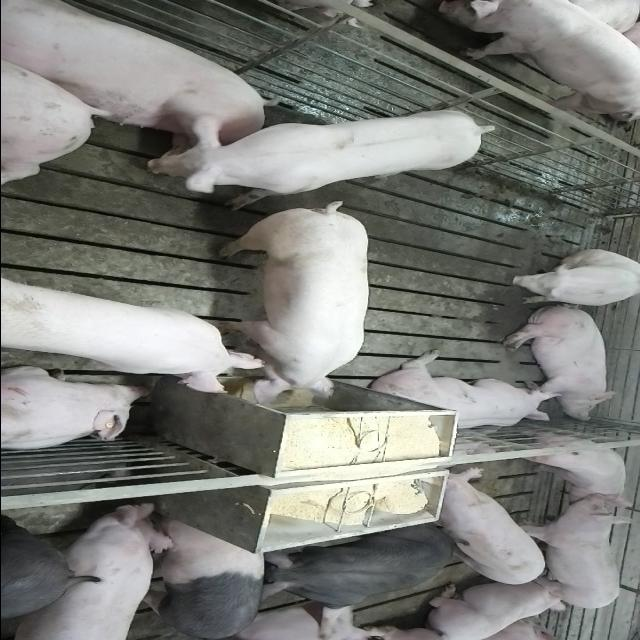Feeding: (212, 199, 372, 408), (0, 278, 264, 398)
Lateral_lying: (500, 304, 620, 420)
Sitting: (492, 249, 639, 308)
Standing: (146, 104, 500, 205), (2, 502, 180, 638), (437, 0, 640, 116), (257, 524, 457, 610), (132, 515, 266, 637), (423, 472, 545, 589), (510, 494, 622, 614), (2, 517, 82, 625), (510, 436, 626, 506)
Sternal_lying: (366, 352, 562, 432), (0, 368, 147, 454), (420, 582, 568, 638)
